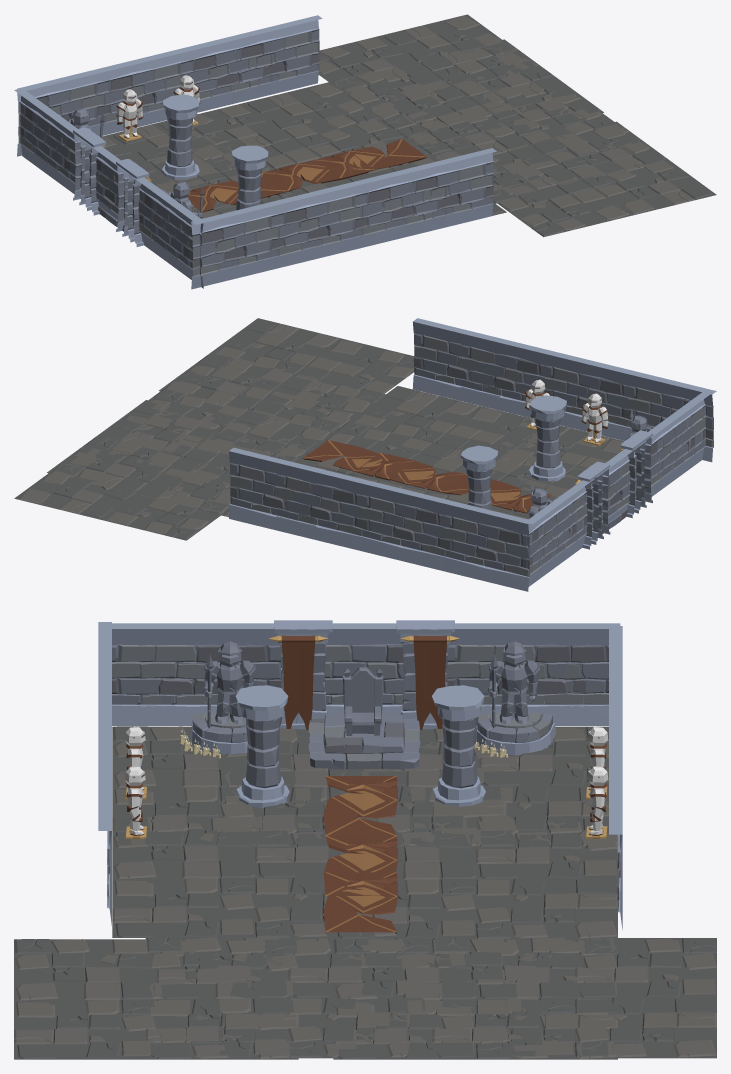
3 renders of one model, top to bottom at view 1: azimuth 30°, elevation 25°; view 2: azimuth 150°, elevation 25°; view 3: azimuth 270°, elevation 25°, orthographic. The views are drawn at different scales.
Visible parts, largest first — view 1: Ground_Tiles_Large.011, Ground_Tiles_Large.013, Ground_Tiles_Large.008, Ground_Tiles_Large.010, Ground_Tiles_Large.012, Wall.087, Wall.071, Wall.090, Wall.091, Wall.089, Wall.098, Wall.097 (+20 smaller); view 2: Ground_Tiles_Large.013, Ground_Tiles_Large.011, Ground_Tiles_Large.007, Ground_Tiles_Large.012, Ground_Tiles_Large.010, Wall.101, Wall.098, Wall.097, Wall.087, Wall.089, Wall.091, Wall.090 (+21 smaller); view 3: Ground_Tiles_Large.013, Ground_Tiles_Large.011, Ground_Tiles_Large.008, Ground_Tiles_Large.007, Ground_Tiles_Large.012, Ground_Tiles_Large.010, Ground_Tiles_Large.009, Ground_Tiles_Large.006, Ground_Tiles_Large.002, Wall.064, Throne.002, Wall.067 (+28 smaller).
Boxes of the visible parts, x1,y1,x2,y2 form: Ground_Tiles_Large.011: (318,14,563,129); Ground_Tiles_Large.013: (493,121,716,237); Ground_Tiles_Large.008: (158,82,430,186); Ground_Tiles_Large.010: (331,39,603,154); Ground_Tiles_Large.012: (396,93,668,203); Wall.087: (275,180,365,268); Wall.071: (191,201,282,289); Wall.090: (405,148,496,236); Wall.091: (231,15,322,103); Wall.089: (358,159,449,248); Wall.098: (101,47,191,135); Wall.097: (184,27,274,112); Ground_Tiles_Large.013: (159,318,414,432); Ground_Tiles_Large.011: (14,427,230,540); Ground_Tiles_Large.007: (298,386,567,494); Ground_Tiles_Large.012: (125,353,385,462); Ground_Tiles_Large.010: (47,400,318,514); Wall.101: (442,500,529,591); Wall.098: (359,479,448,570); Wall.097: (276,459,363,551); Wall.087: (543,350,630,440); Wall.089: (459,329,547,417); Wall.091: (229,447,316,539); Wall.090: (412,318,500,410); Ground_Tiles_Large.013: (14,939,298,1059); Ground_Tiles_Large.011: (432,937,716,1058); Ground_Tiles_Large.008: (333,818,617,939); Ground_Tiles_Large.007: (112,817,396,937); Ground_Tiles_Large.012: (145,937,430,1058); Ground_Tiles_Large.010: (333,939,617,1059); Ground_Tiles_Large.009: (112,726,394,846); Ground_Tiles_Large.006: (340,726,617,846); Ground_Tiles_Large.002: (221,728,506,846); Wall.064: (104,623,246,725); Throne.002: (308,667,420,769); Wall.067: (446,623,585,725).
Bounding box in the file's own units: 5.66 × 0.8477 × 4.94.
Materials: 60 (50 with a texture image).
